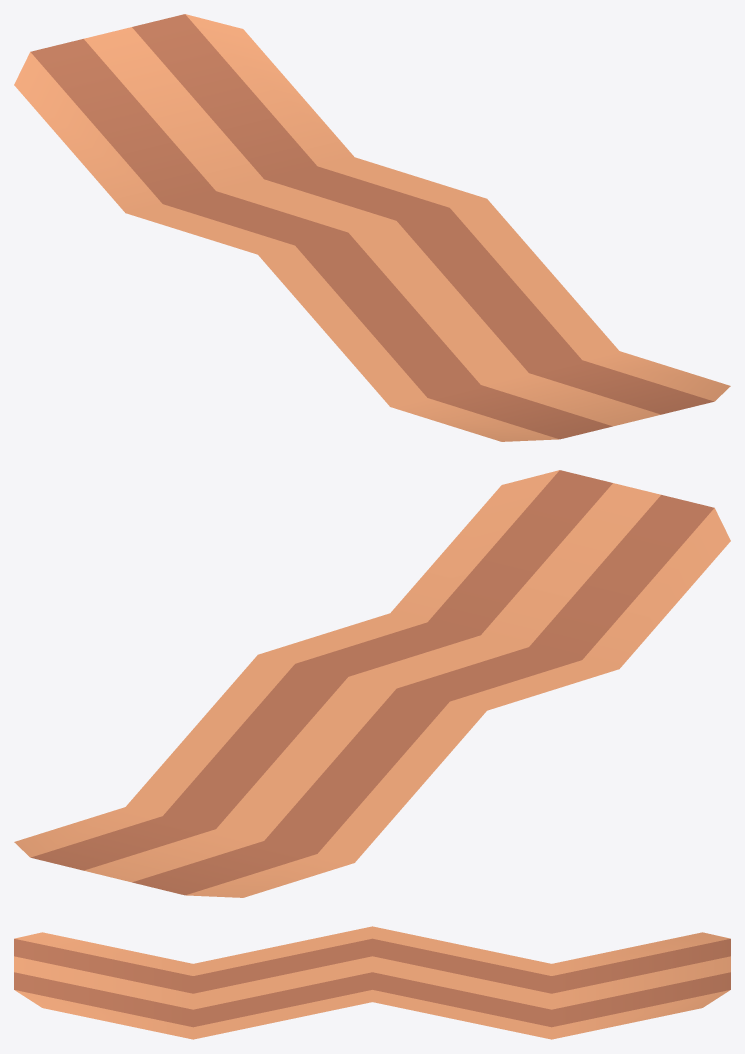
The model's file is bacon.GLB.
3 renders of one model, top to bottom at view 1: azimuth 30°, elevation 25°; view 2: azimuth 150°, elevation 25°; view 3: azimuth 270°, elevation 25°, orthographic. The views are drawn at different scales.
Visible parts, largest first — view 1: bacon; view 2: bacon; view 3: bacon.
Part boxes in pixels (x1,y1,x2,y2): bacon: (14, 14, 730, 441); bacon: (14, 470, 730, 897); bacon: (14, 926, 730, 1039).
Bounding box in the file's own units: 0.13 × 0.03 × 0.52.
